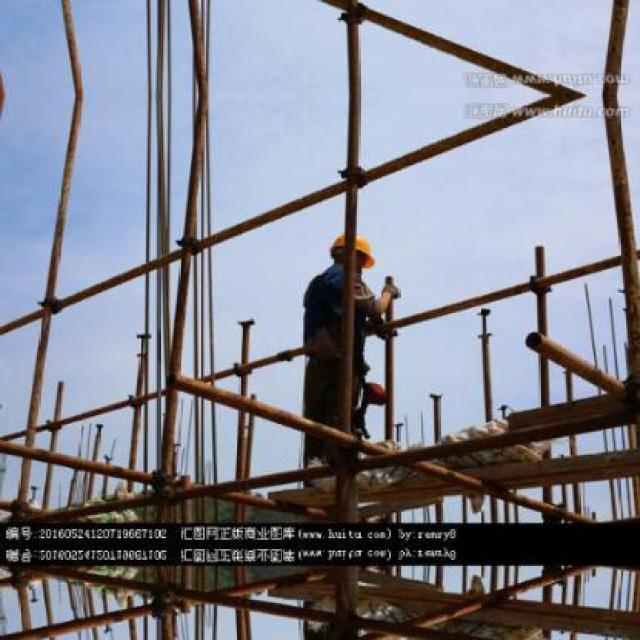helmet: (331, 230, 377, 280)
